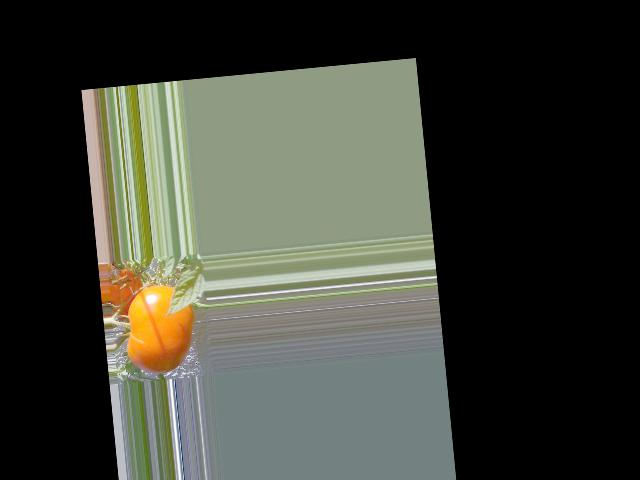tomato: (121, 281, 199, 376)
